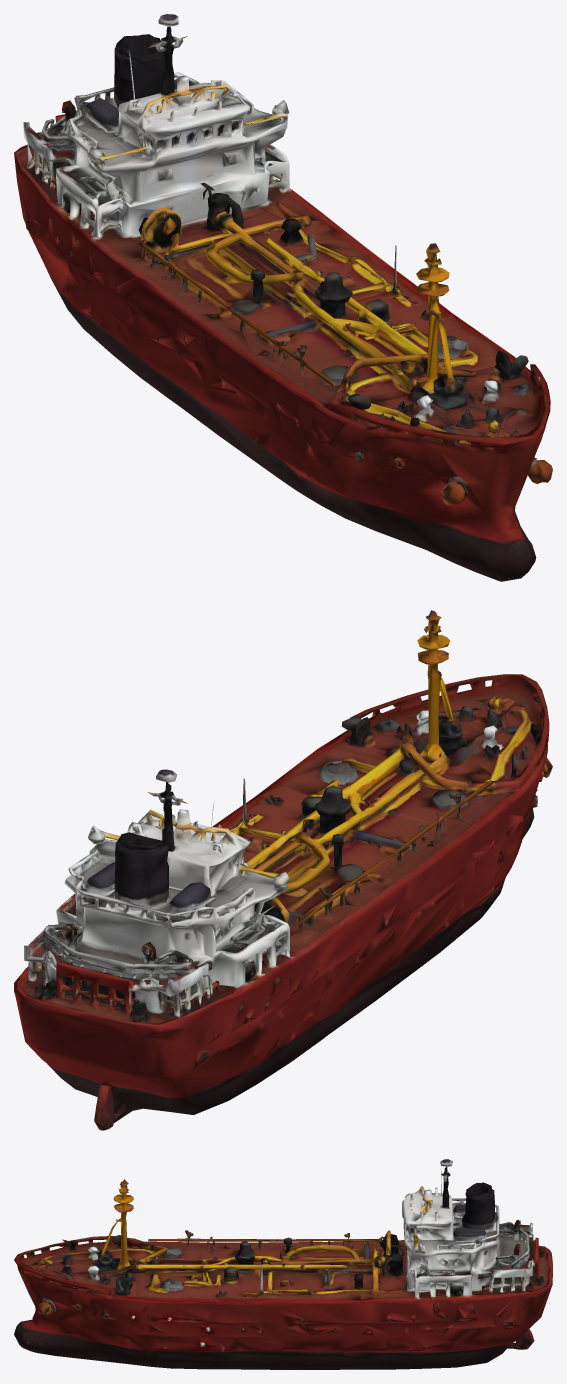
Rendered from ship_oil.glb.
3 renders of one model, top to bottom at view 1: azimuth 30°, elevation 25°; view 2: azimuth 150°, elevation 25°; view 3: azimuth 270°, elevation 25°, orthographic. The views are drawn at different scales.
Visible parts, largest first — view 1: tripo_node_550df819-6395-44c9-b375-aed63ae01706; view 2: tripo_node_550df819-6395-44c9-b375-aed63ae01706; view 3: tripo_node_550df819-6395-44c9-b375-aed63ae01706.
Part boxes in pixels (x1,y1,x2,y2): tripo_node_550df819-6395-44c9-b375-aed63ae01706: [14, 14, 552, 581]; tripo_node_550df819-6395-44c9-b375-aed63ae01706: [14, 610, 552, 1130]; tripo_node_550df819-6395-44c9-b375-aed63ae01706: [14, 1159, 552, 1369].
Bounding box in the file's own units: 0.2626 × 0.3844 × 0.9807.
Materials: 1 (1 with a texture image).
